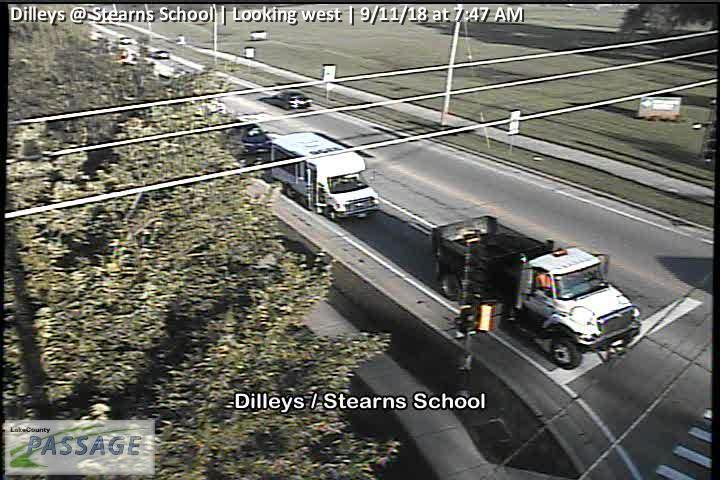Sedan: (271, 90, 312, 109)
Truck: (432, 216, 641, 370), (268, 132, 380, 220)
